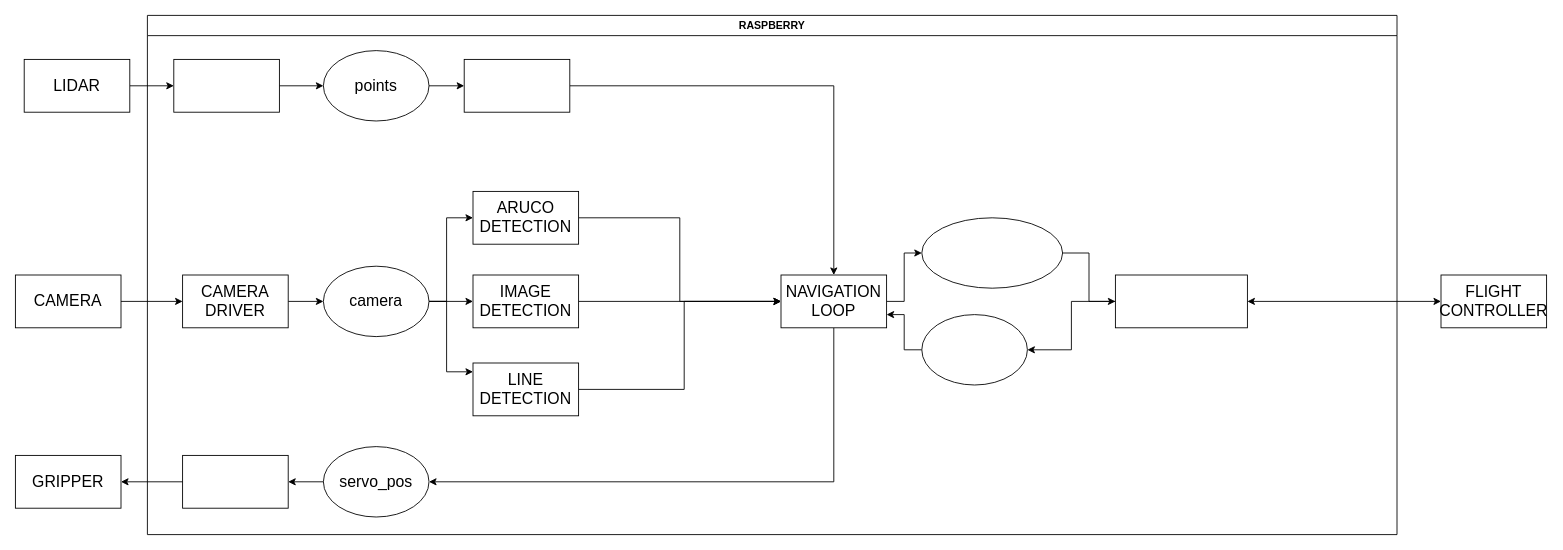
This 1563x550 diagram has some shape labels left out. Here are the shapes that lost their labels. From the top down, the centre of each, then its label:
[226,85]: LIDAR DRIVER
[516,85]: AUTOMATIC NAVIGATION
[992,252]: position_setpoint
[1181,301]: MICRO-RTPS
[974,349]: local_position
[235,481]: SERVO DRIVER
